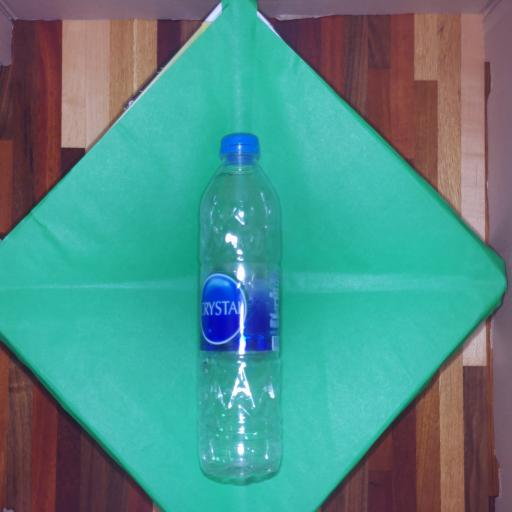bottle: (199, 134, 281, 477)
